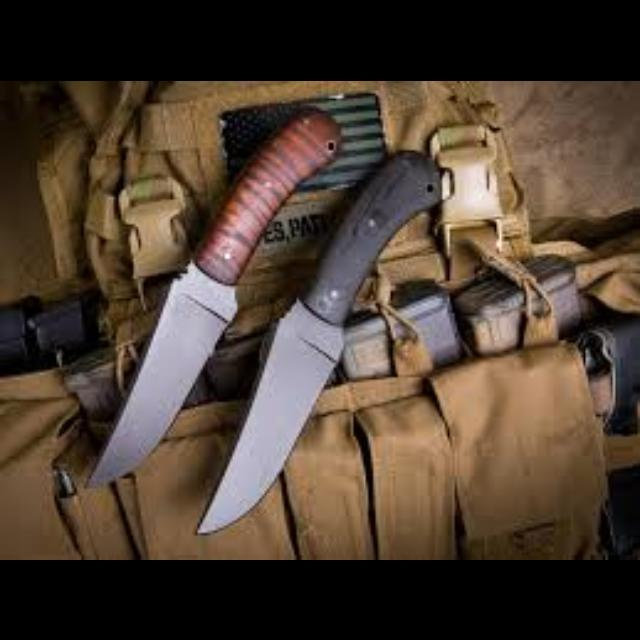Knife: (85, 105, 341, 488), (196, 148, 444, 534)
